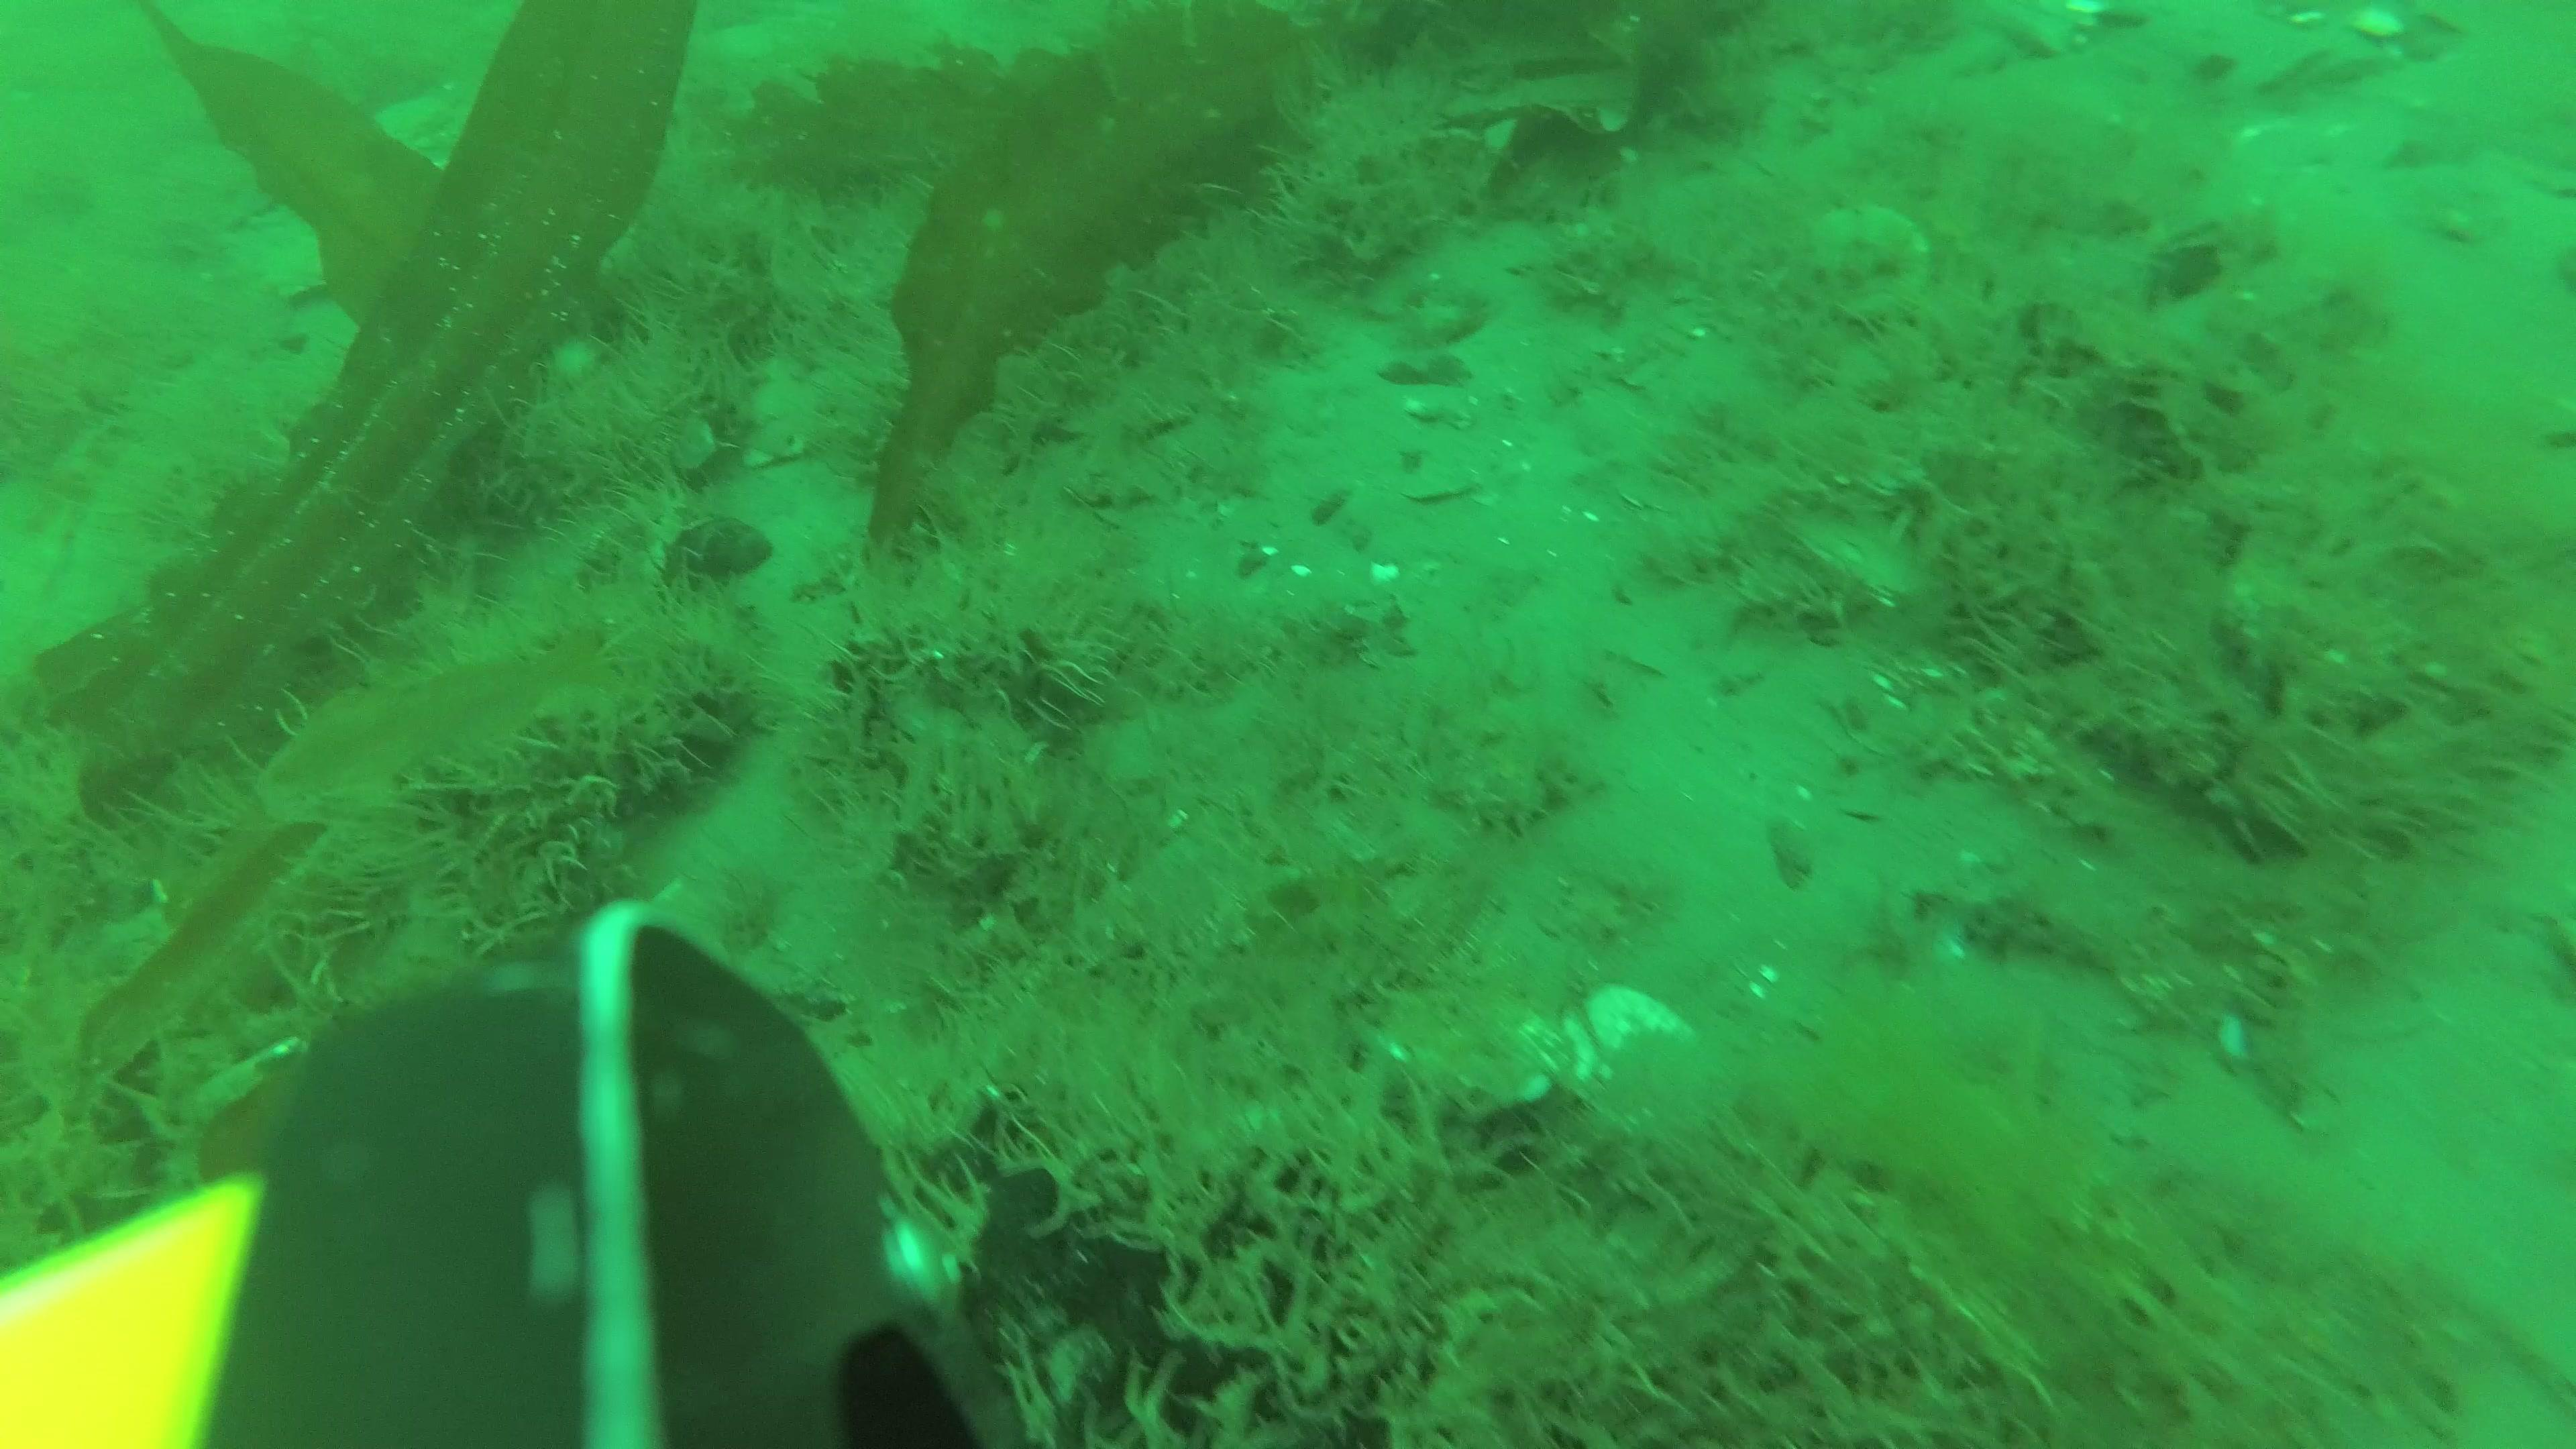scallop: (1559, 985, 1698, 1122)
